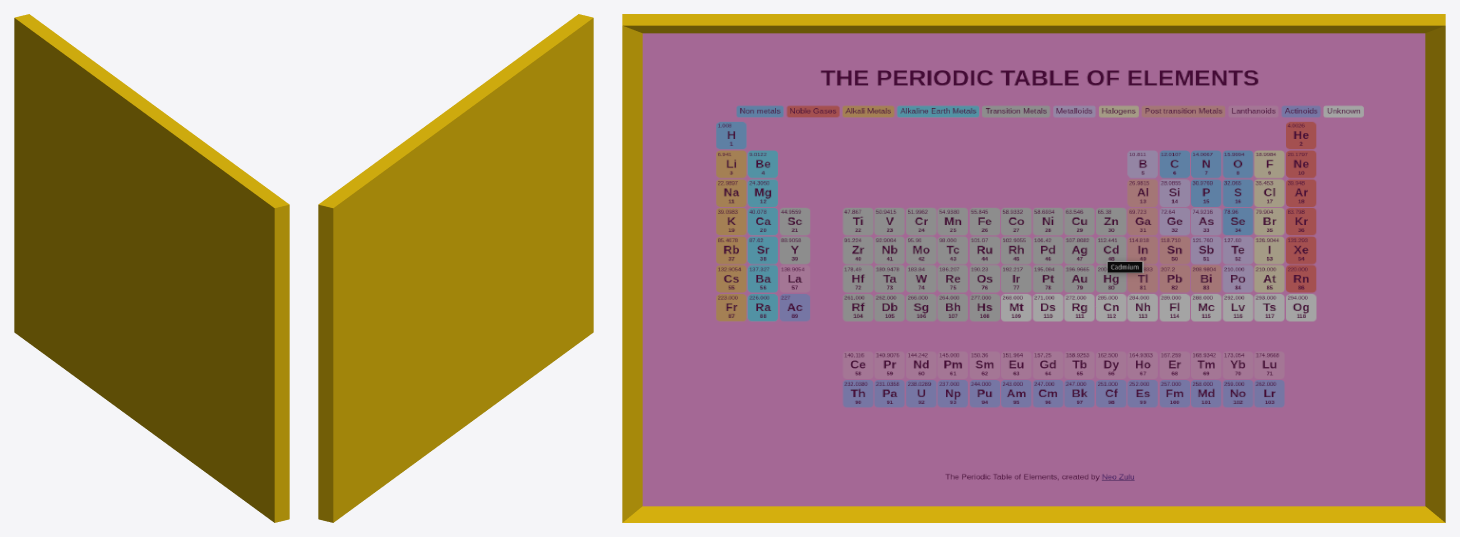
The model's file is periodic_table_frame.gltf.
3 views of the same model, side by side, from view 1: azimuth 30°, elevation 25°; view 2: azimuth 150°, elevation 25°; view 3: azimuth 270°, elevation 25° (orthographic). The views are drawn at different scales.
Parts seen in each view (by area): view 1: Cube002; view 2: Cube002; view 3: Cube002_1, Cube002.
Boxes of the visible parts, x1,y1,x2,y2 form: Cube002: [14, 14, 289, 522]; Cube002: [318, 14, 593, 522]; Cube002_1: [642, 33, 1425, 506]; Cube002: [622, 14, 1445, 522].
Bounding box in the file's own units: 0.1 × 2 × 3.
2 materials, 1 textured.
